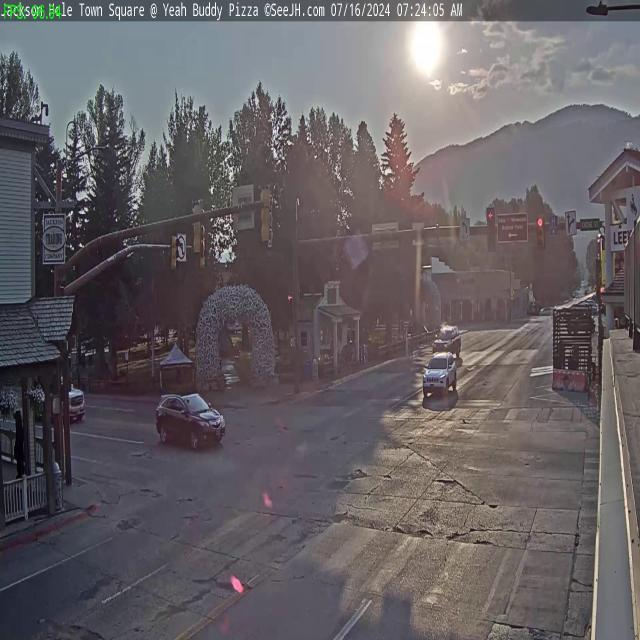suv: (154, 388, 227, 452), (422, 352, 458, 400), (46, 384, 84, 424), (434, 322, 460, 346)
traffic light: (260, 184, 273, 244), (190, 200, 204, 255), (486, 207, 496, 252), (169, 234, 178, 273), (536, 215, 544, 248)
